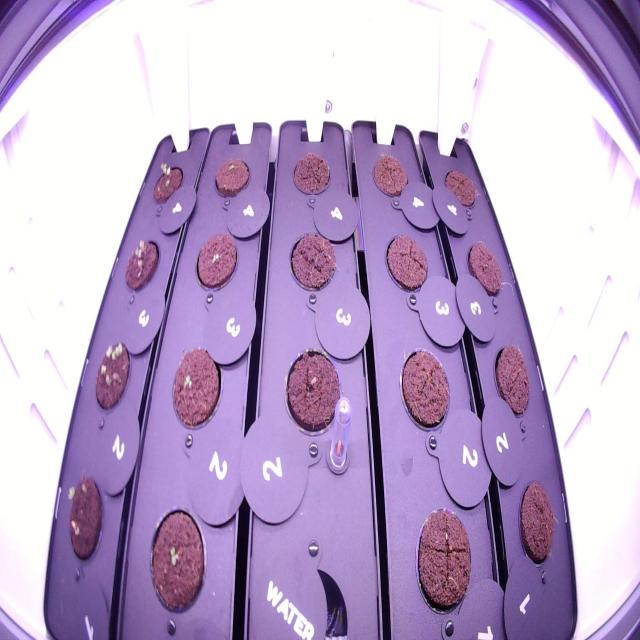germination: (143, 496, 215, 625), (162, 333, 227, 438), (60, 467, 113, 572), (90, 329, 136, 422), (191, 224, 241, 303), (122, 230, 164, 302), (147, 152, 190, 214)
pod: (409, 500, 479, 621), (280, 337, 348, 449), (396, 332, 456, 442), (513, 470, 560, 572), (282, 223, 342, 298), (488, 333, 534, 427), (379, 227, 433, 307), (461, 229, 507, 309), (288, 140, 338, 207), (436, 152, 481, 215), (369, 143, 414, 205), (210, 148, 254, 208)
